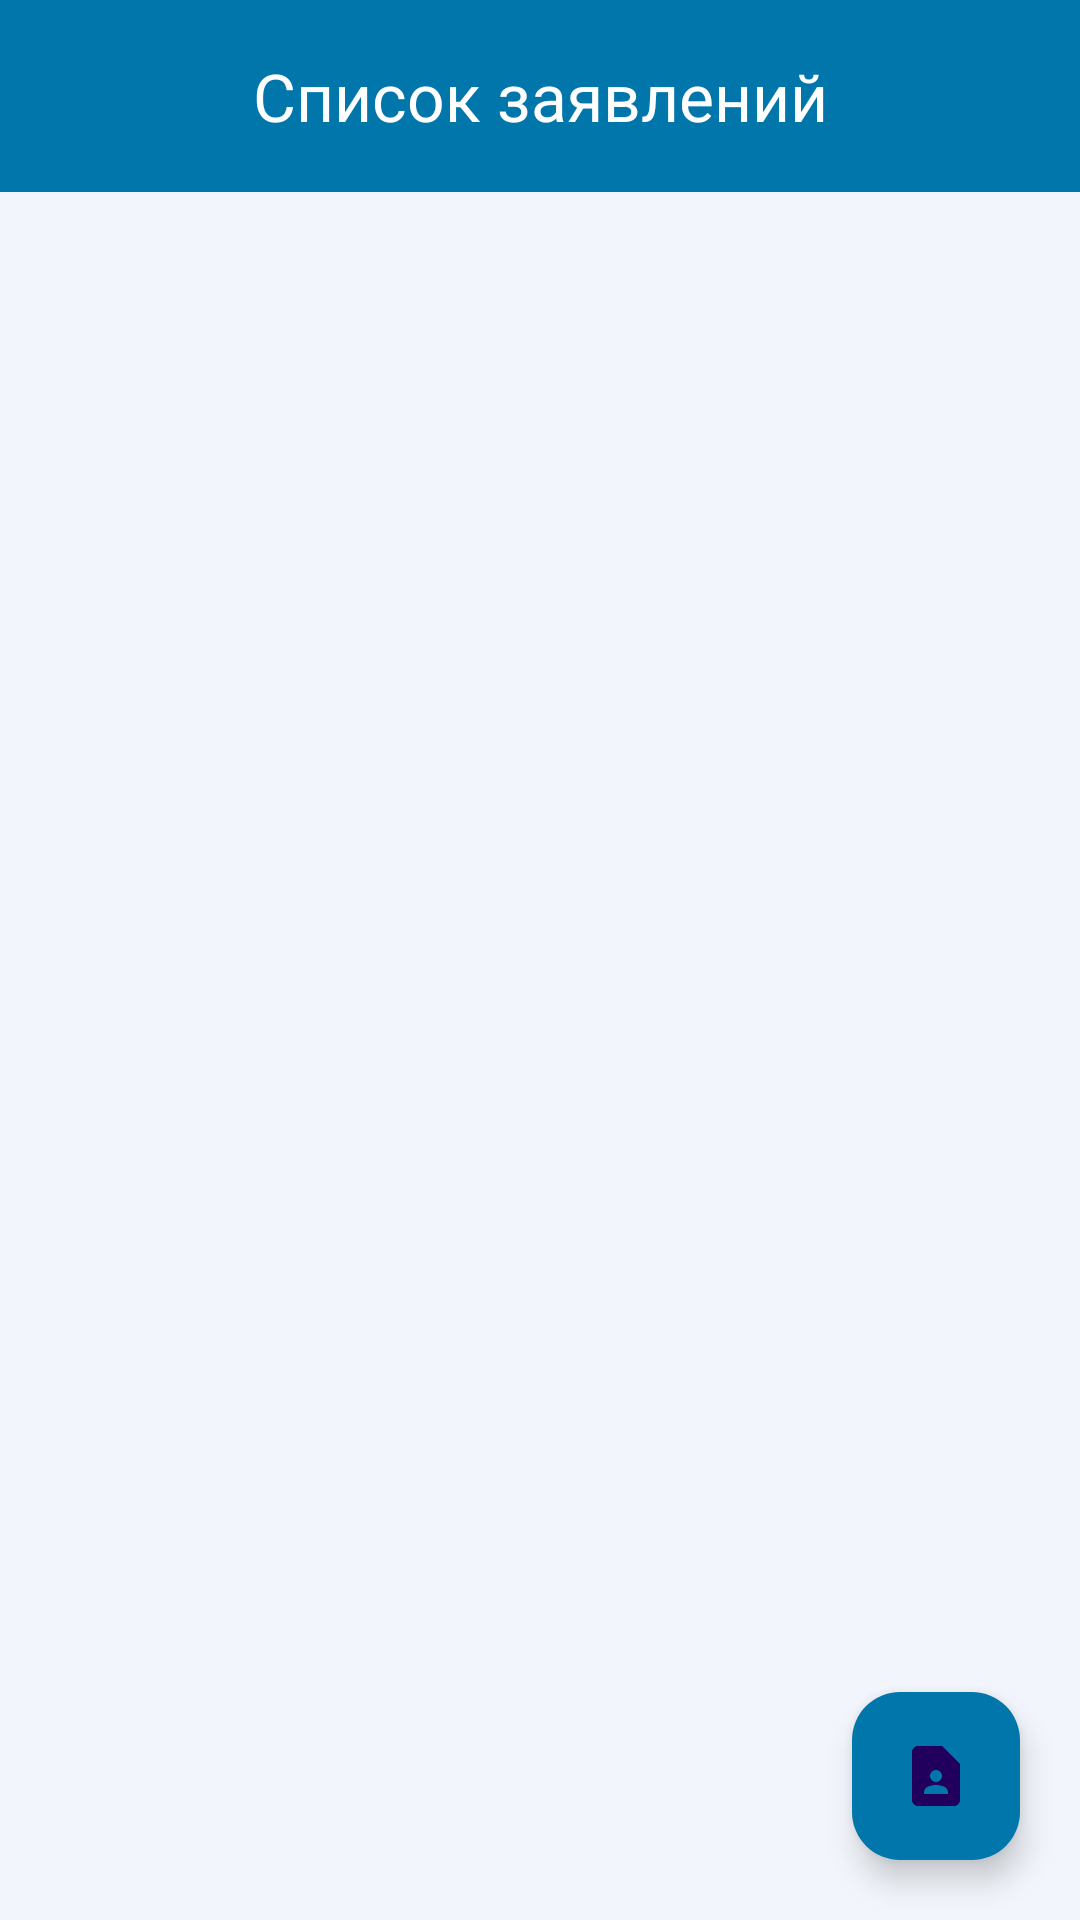

Screen size 1080w x 1920h. Icon name, then its center in pixels as (x=x, y=y):
zayavlenie page: (x=936, y=1776)
